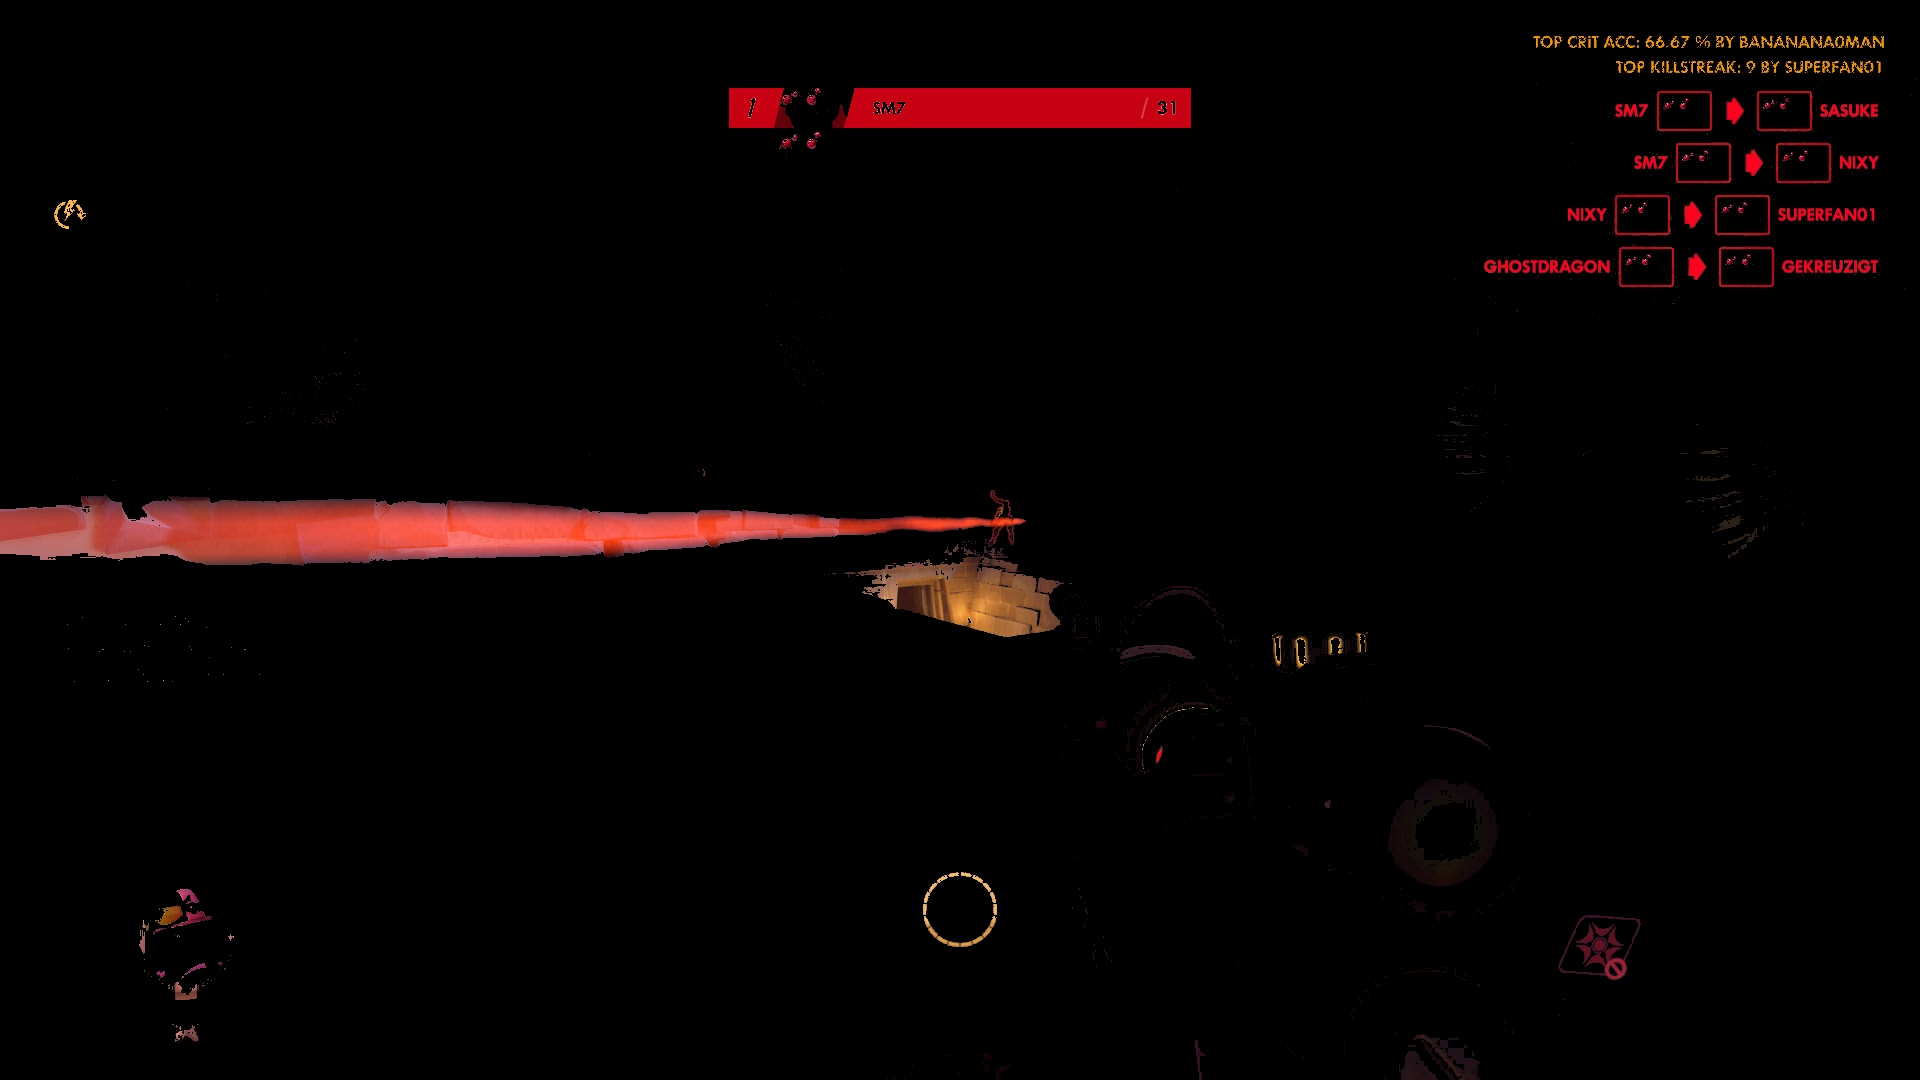widowmaker: (985, 498, 1015, 549)
